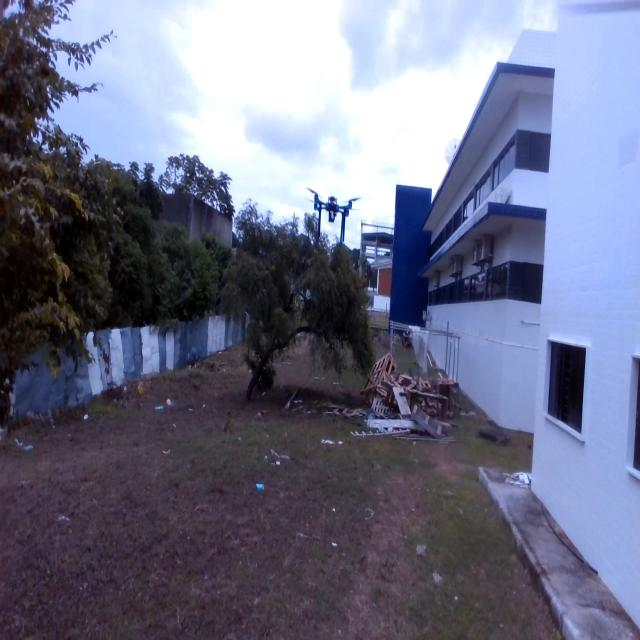-uav-: (296, 157, 369, 270)
